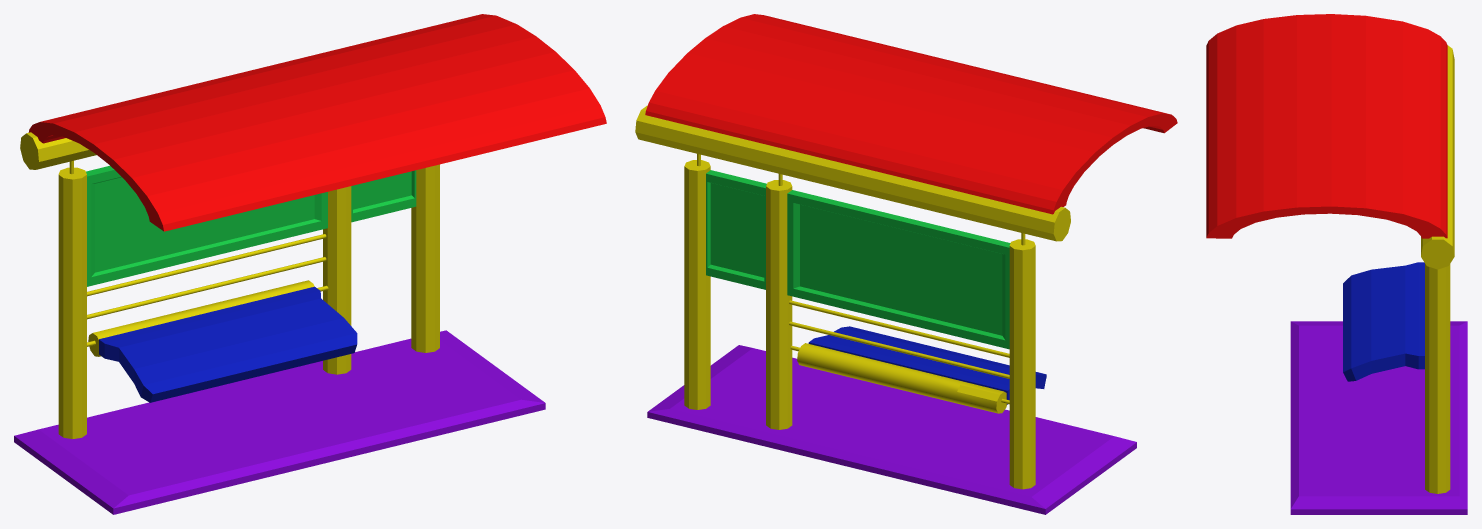
Rendered from D_BUSSHED.FBX.
3 renders of one model, left to right at view 1: azimuth 30°, elevation 25°; view 2: azimuth 150°, elevation 25°; view 3: azimuth 270°, elevation 25°, orthographic. The views are drawn at different scales.
Parts seen in each view (by area): view 1: BUSSHED_LOW003, BUSSHED_LOW002, BUSSHED_LOW007, BUSSHED_LOW004, BUSSHED_LOW006, BUSSHED_LOW001, BUSSHED_LOW, BUSSHED_LOW005; view 2: BUSSHED_LOW003, BUSSHED_LOW002, BUSSHED_LOW006, BUSSHED_LOW004, BUSSHED_LOW, BUSSHED_LOW001, BUSSHED_LOW005, BUSSHED_LOW007; view 3: BUSSHED_LOW003, BUSSHED_LOW002, BUSSHED_LOW007, BUSSHED_LOW006.
Boxes of the visible parts, x1,y1,x2,y2 form: BUSSHED_LOW003: (28,14,606,231); BUSSHED_LOW002: (14,330,545,514); BUSSHED_LOW007: (99,286,357,402); BUSSHED_LOW004: (86,165,327,286); BUSSHED_LOW006: (20,132,439,374); BUSSHED_LOW001: (58,167,86,438); BUSSHED_LOW: (69,160,328,356); BUSSHED_LOW005: (351,170,416,222); BUSSHED_LOW003: (645,14,1177,214); BUSSHED_LOW002: (647,345,1136,514); BUSSHED_LOW006: (635,105,1070,429); BUSSHED_LOW004: (787,190,1010,349); BUSSHED_LOW: (697,154,1025,413); BUSSHED_LOW001: (1009,239,1035,489); BUSSHED_LOW005: (706,170,766,289); BUSSHED_LOW007: (808,326,1046,404); BUSSHED_LOW003: (1206,14,1447,238); BUSSHED_LOW002: (1290,321,1467,514); BUSSHED_LOW007: (1343,262,1424,381); BUSSHED_LOW006: (1421,45,1454,493).
Bounding box in the file's own units: 349 × 259 × 195.
